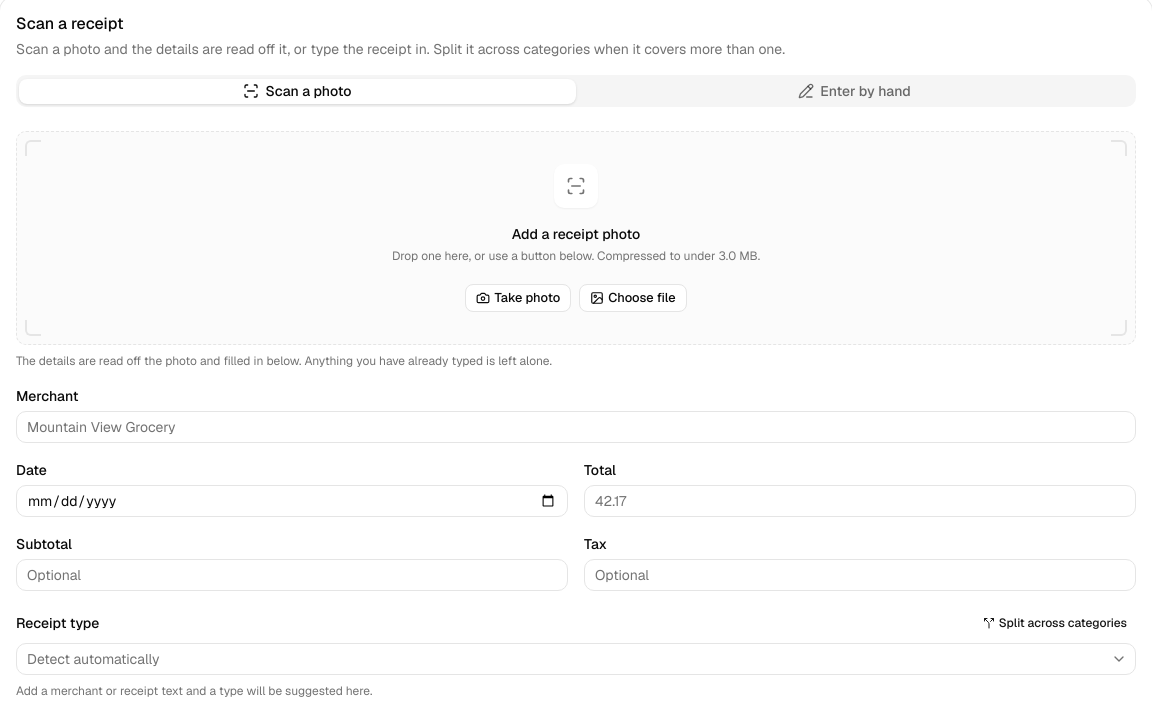
Scenario: ScanForm › previews the detected type after the user stops typing
The width and height of the screenshot is (1152, 717).
Step 1. Type "Shell" into the field labelled "Merchant" → (576, 427), box x1=16 y1=411 x2=1136 y2=443
(page scrolled)
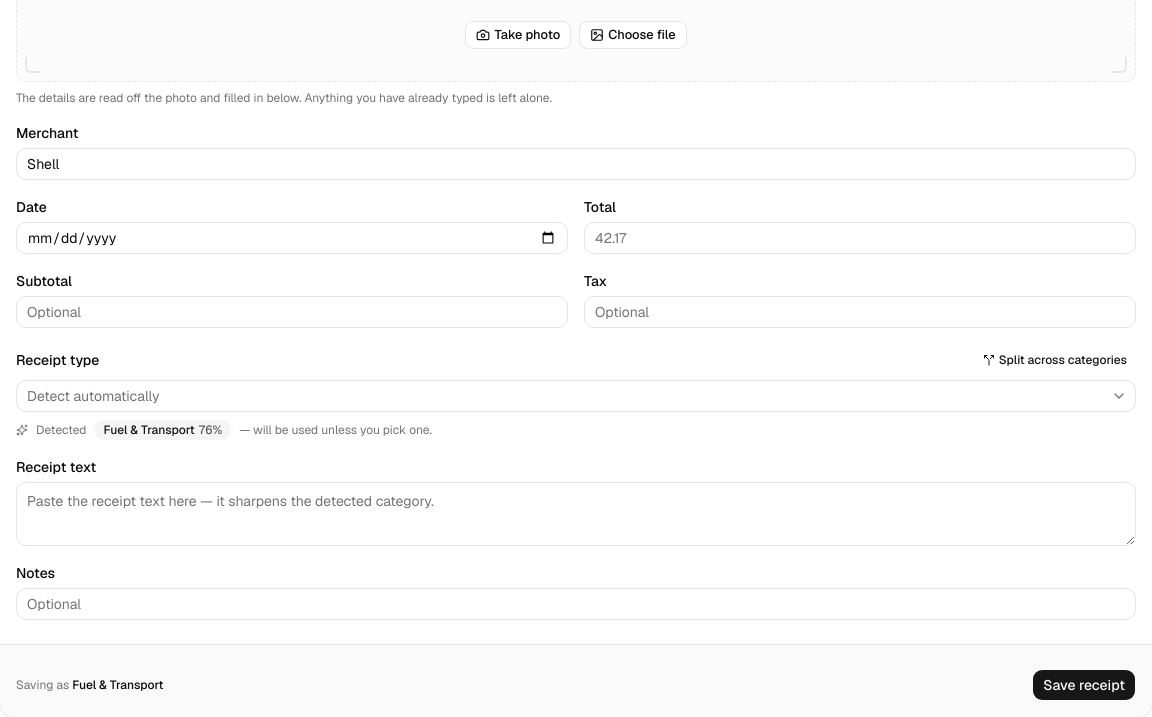
Expected: the text "— will be used unless you pick one." is shown, x1=239 y1=422 x2=432 y2=438
Expected: the text "76%" is shown, x1=199 y1=422 x2=222 y2=438
Expected: the text "Saving as" shows "Fuel & Transport", x1=72 y1=677 x2=164 y2=693
